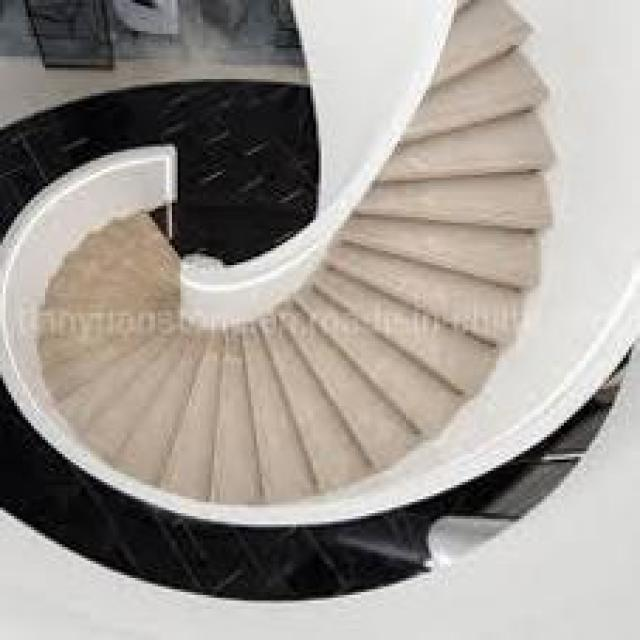upstair: (289, 164, 523, 441)
